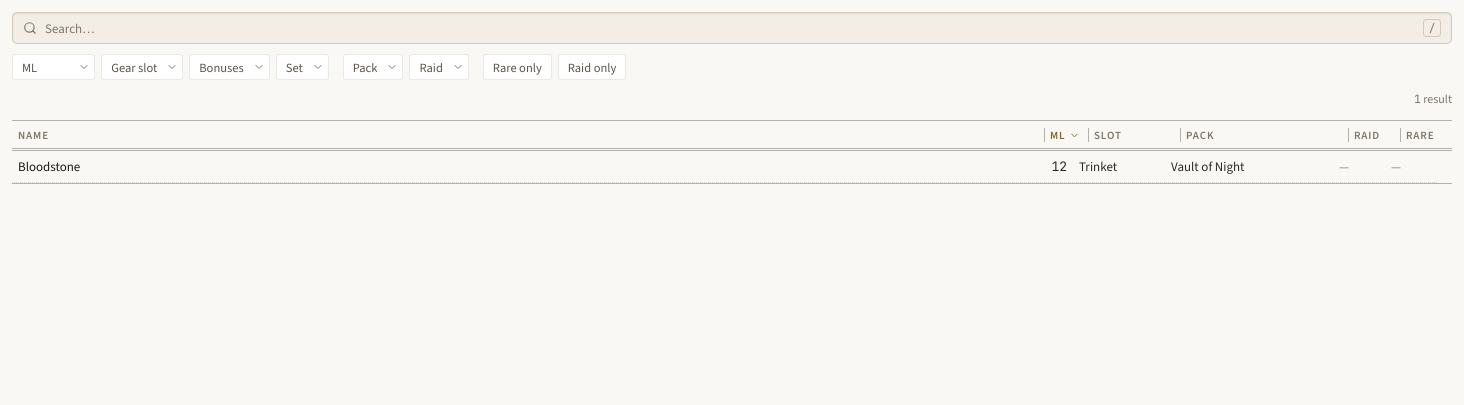
Test: ItemPicker page errors › keeps the filter controls available after a loaded page is followed by a 400
This screenshot has width=1464, height=405.
Expected: the element with class "resources-result-count" reads "1 result", x1=1414 y1=90 x2=1452 y2=110
Click the button "Bonuses": (230, 67) x1=189 y1=54 x2=270 y2=80
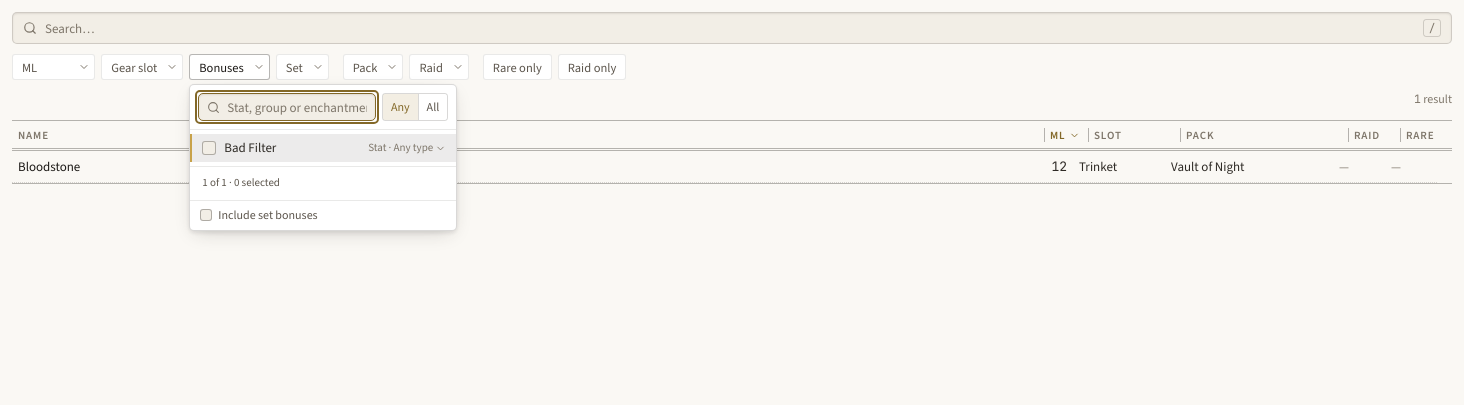
Click the option "Bad Filter Stat · Any type": (250, 148) x1=190 y1=134 x2=456 y2=162
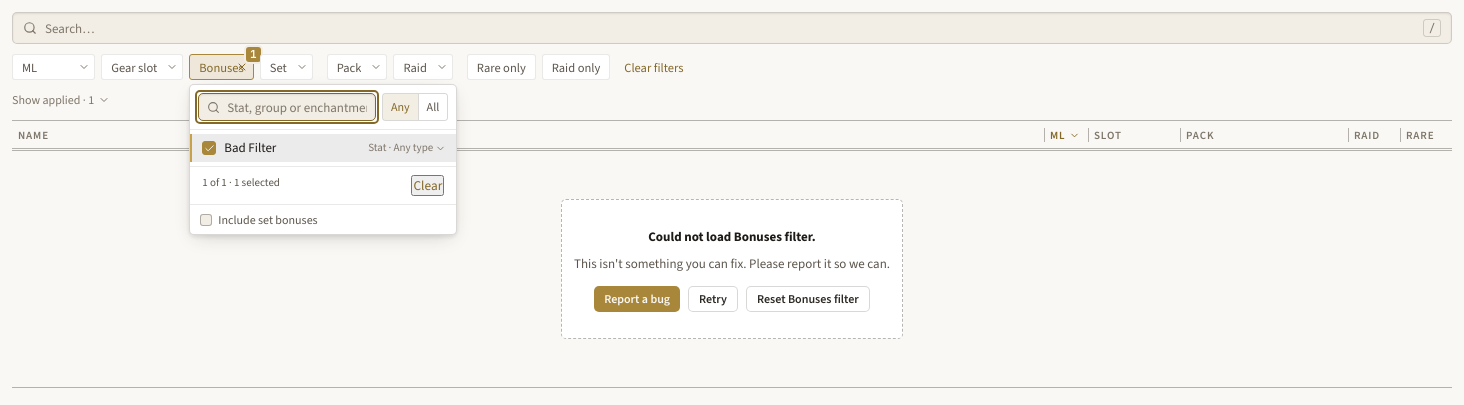
Now the text "Could not load Bonuses filter." is shown, box x1=648 y1=226 x2=816 y2=246
Now the button "Show applied · 1" is shown, box x1=12 y1=90 x2=110 y2=110
Now the button "Retry" is shown, box x1=688 y1=286 x2=738 y2=312
Click the button "Reset Bonuses filter": (808, 298) x1=746 y1=286 x2=870 y2=312
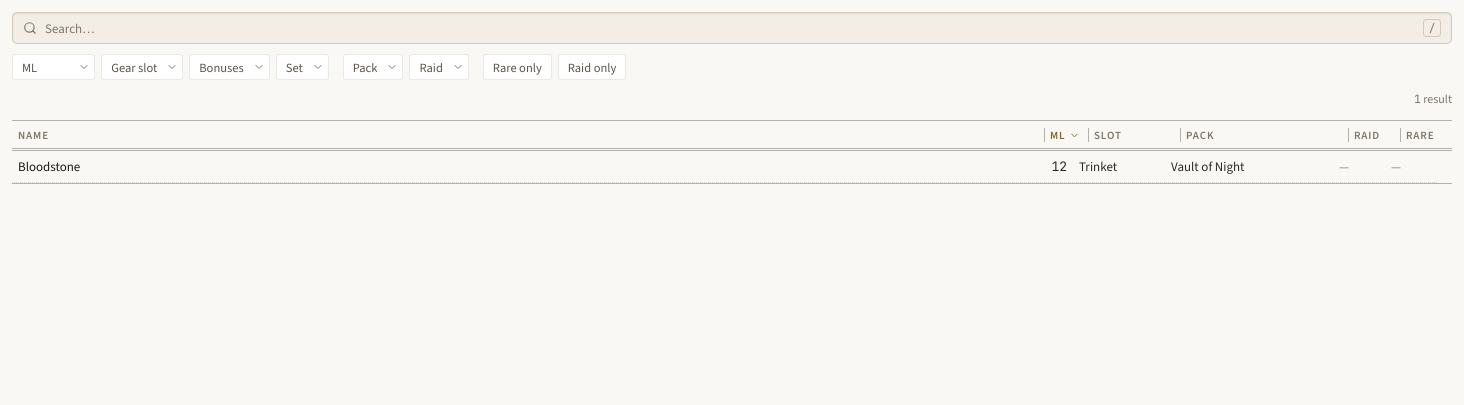
Now the element with class "resources-result-count" reads "1 result", box x1=1414 y1=90 x2=1452 y2=110
